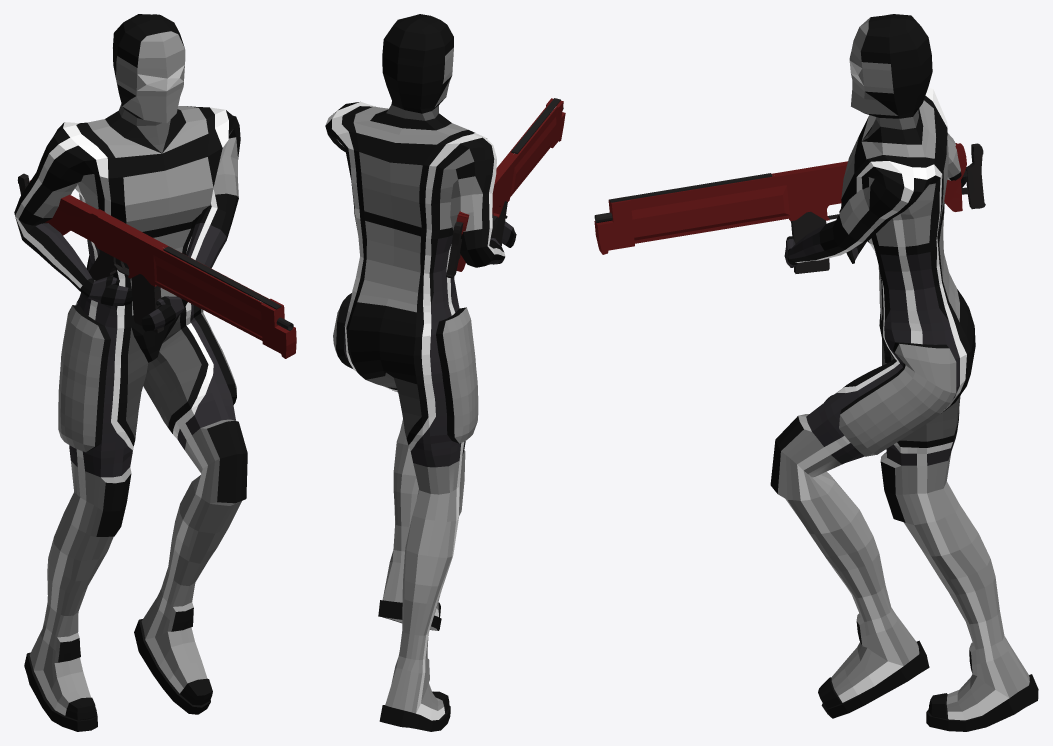
File: TKR6.obj
3 renders of one model, left to right at view 1: azimuth 30°, elevation 25°; view 2: azimuth 150°, elevation 25°; view 3: azimuth 270°, elevation 25°, orthographic. The views are drawn at different scales.
Parts seen in each view (by area): view 1: metarig_object_metarig_mesh, Cube.001; view 2: metarig_object_metarig_mesh, Cube.001; view 3: metarig_object_metarig_mesh, Cube.001.
Part boxes in pixels (x1=…): metarig_object_metarig_mesh: x1=14, y1=14, x2=247, y2=731; Cube.001: x1=17, y1=173, x2=296, y2=358; metarig_object_metarig_mesh: x1=325, y1=14, x2=516, y2=731; Cube.001: x1=446, y1=98, x2=565, y2=278; metarig_object_metarig_mesh: x1=770, y1=14, x2=1038, y2=731; Cube.001: x1=594, y1=143, x2=985, y2=273.
Size of the model in its own units: 0.4992 by 1.75 by 0.9707.
2 materials, 2 textured.
